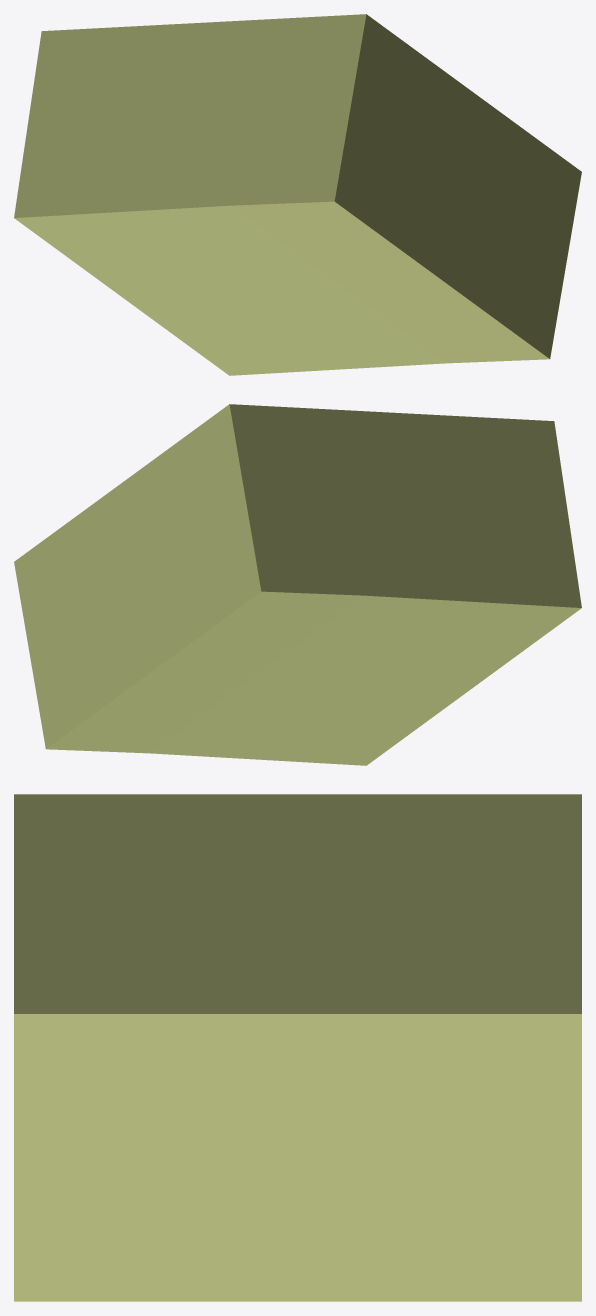
3 views of the same model, one above another, from view 1: azimuth 30°, elevation 25°; view 2: azimuth 150°, elevation 25°; view 3: azimuth 270°, elevation 25° (orthographic). The views are drawn at different scales.
Visible parts, largest first — view 1: 0_1_2_0_0_2_2_0_0_1_3; view 2: 0_1_2_0_0_2_2_0_0_1_3; view 3: 0_1_2_0_0_2_2_0_0_1_3.
Part boxes in pixels (x1,y1,x2,y2): 0_1_2_0_0_2_2_0_0_1_3: [14, 14, 581, 375]; 0_1_2_0_0_2_2_0_0_1_3: [14, 404, 581, 765]; 0_1_2_0_0_2_2_0_0_1_3: [14, 794, 581, 1301].
Bounding box in the file's own units: 8.5 × 5.57 × 9.
